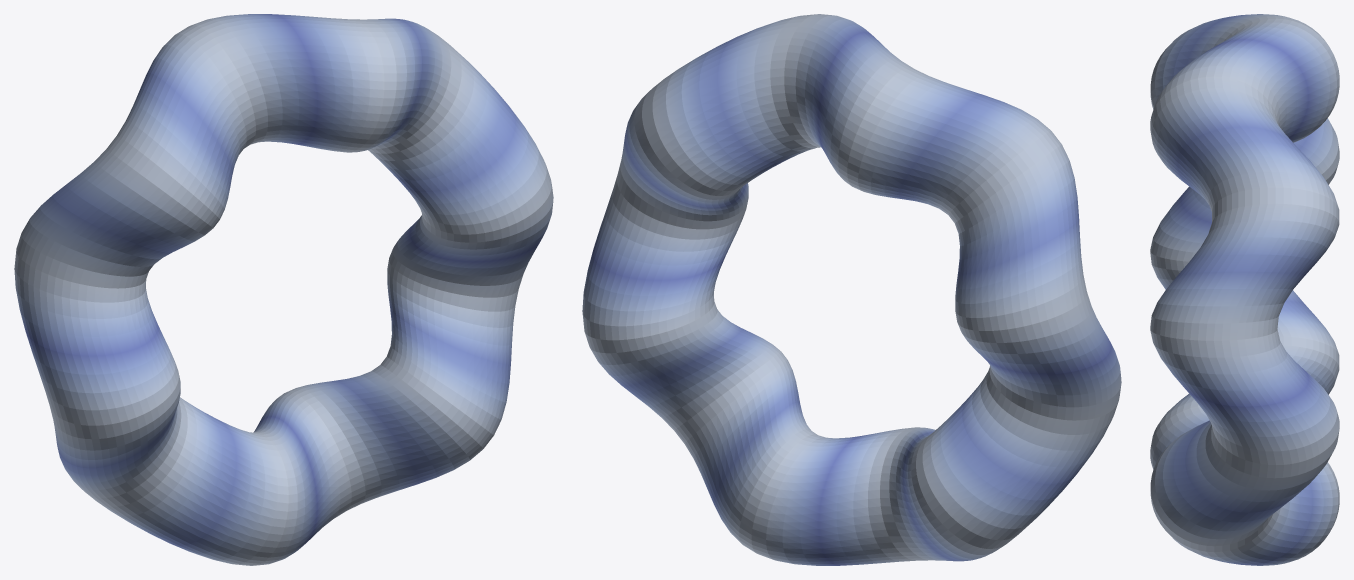
Rendered from step_7.glb.
3 views of the same model, side by side, from view 1: azimuth 30°, elevation 25°; view 2: azimuth 150°, elevation 25°; view 3: azimuth 270°, elevation 25° (orthographic). The views are drawn at different scales.
Parts seen in each view (by area): view 1: world; view 2: world; view 3: world.
Part boxes in pixels (left/top/right/bottom): world: left=14, top=14, right=553, bottom=565; world: left=582, top=14, right=1121, bottom=565; world: left=1150, top=14, right=1339, bottom=565.
Size of the model in its own units: 26 by 26 by 8.93.
